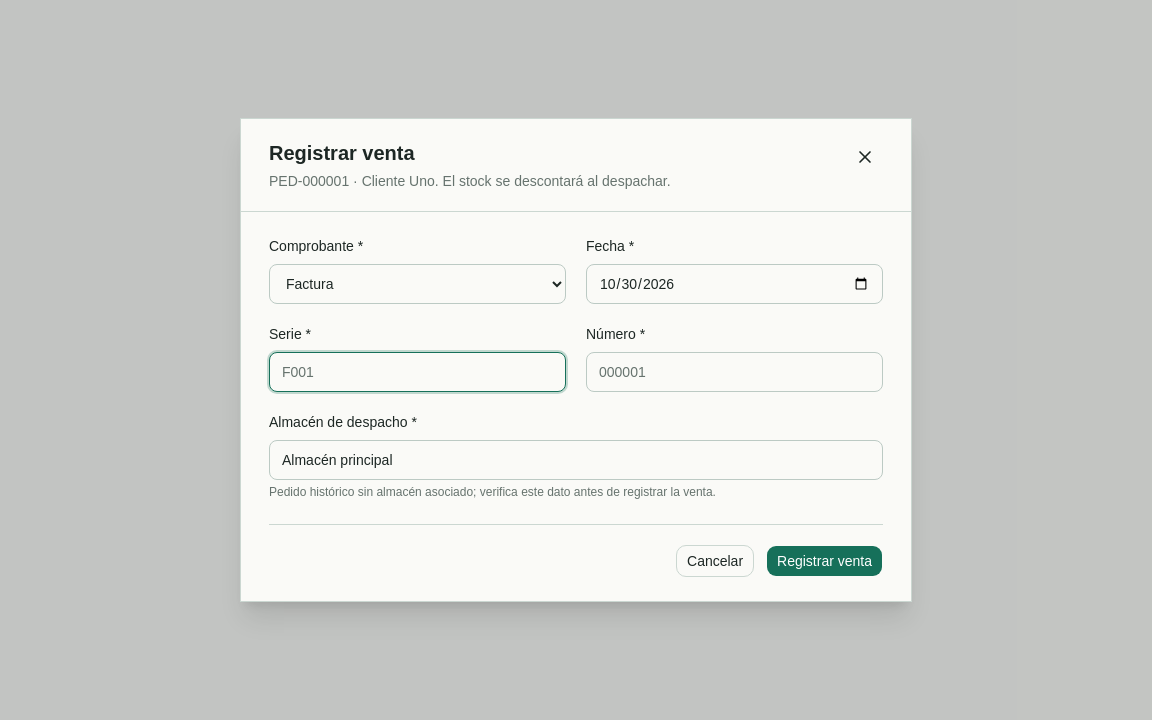
Test: DialogoRegistroVenta › marca la fecha cuando se intenta registrar sin una fecha válida
Clear the date field labelled "Fecha *" at [734, 284], box 586,264 -> 883,304
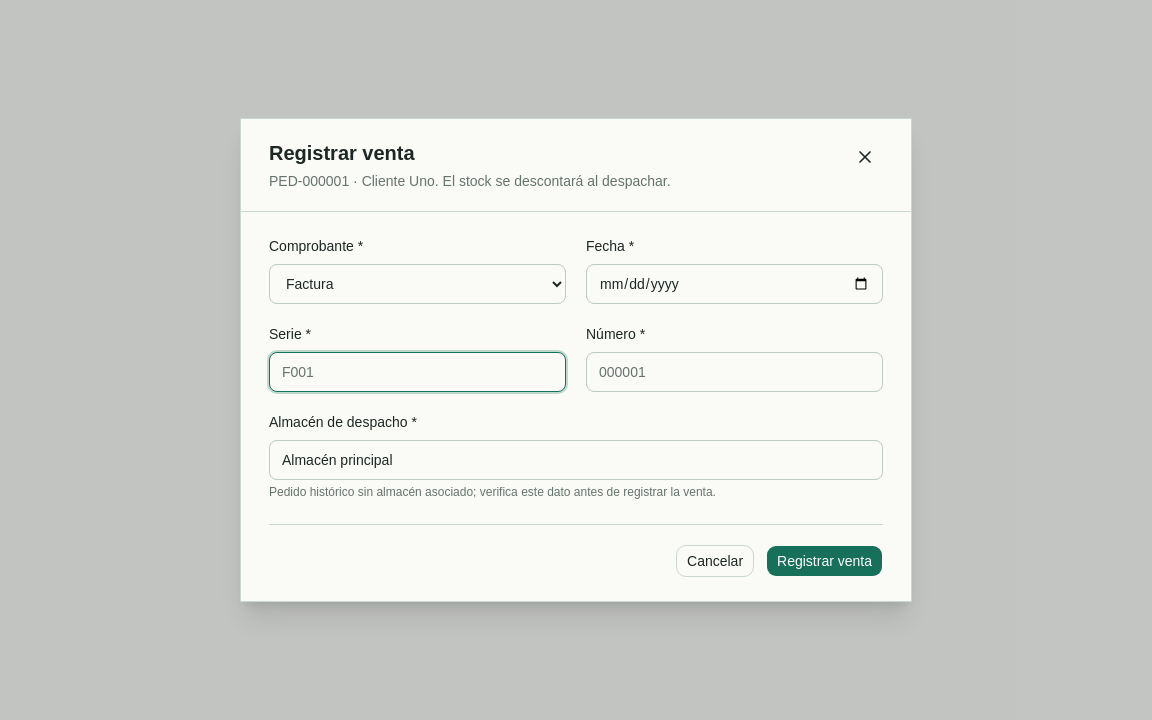
Type "f001" into the field labelled "Serie *".
click(418, 372); type("f001")  # box 269,352 -> 566,392
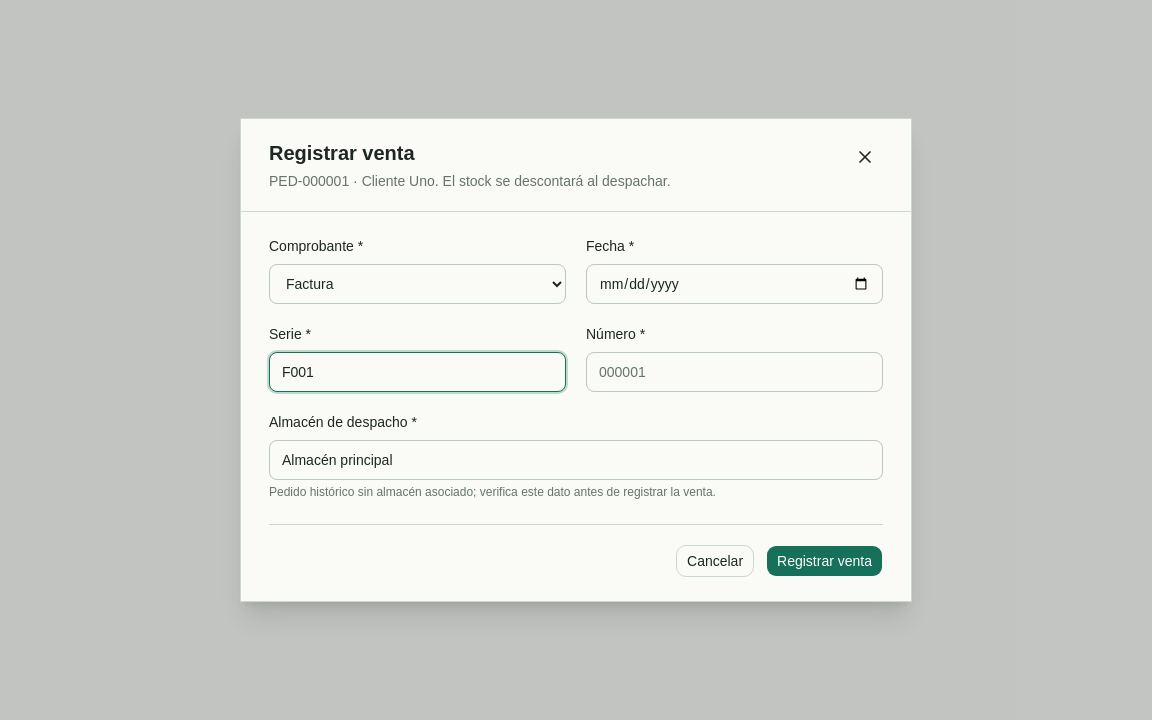
Type "1" into the field labelled "Número *".
click(734, 372); type("1")  # box 586,352 -> 883,392
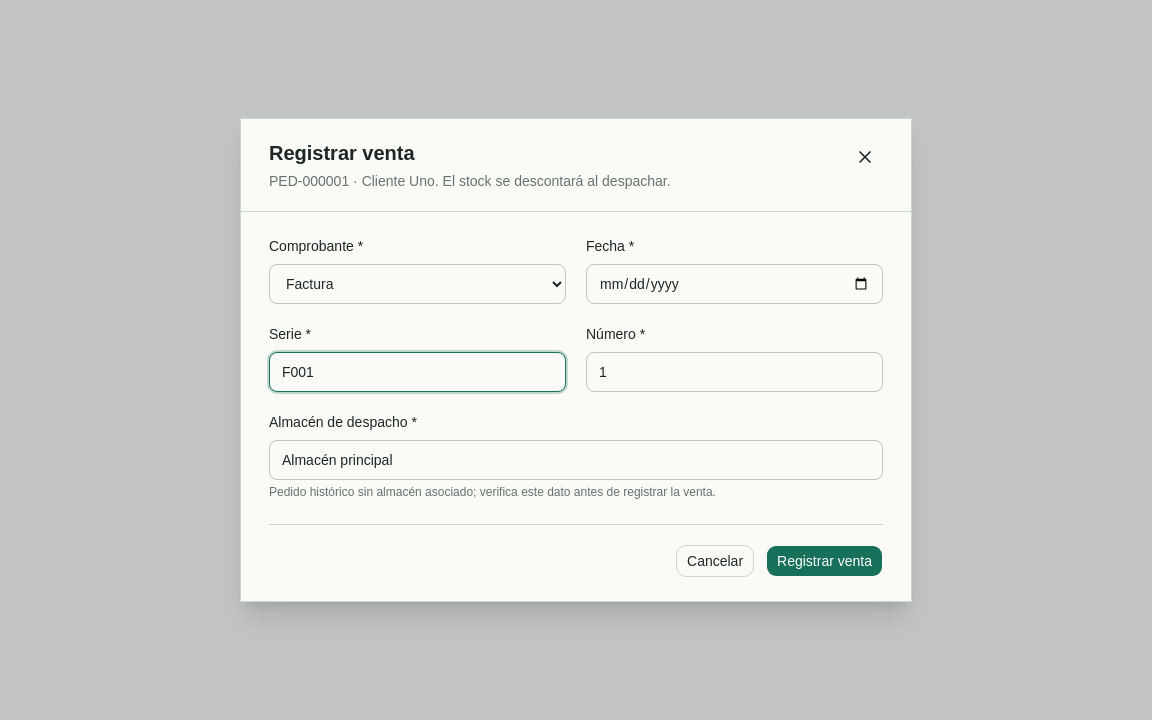
Click the button "Registrar venta".
click(825, 561)  # box 766,545 -> 883,577
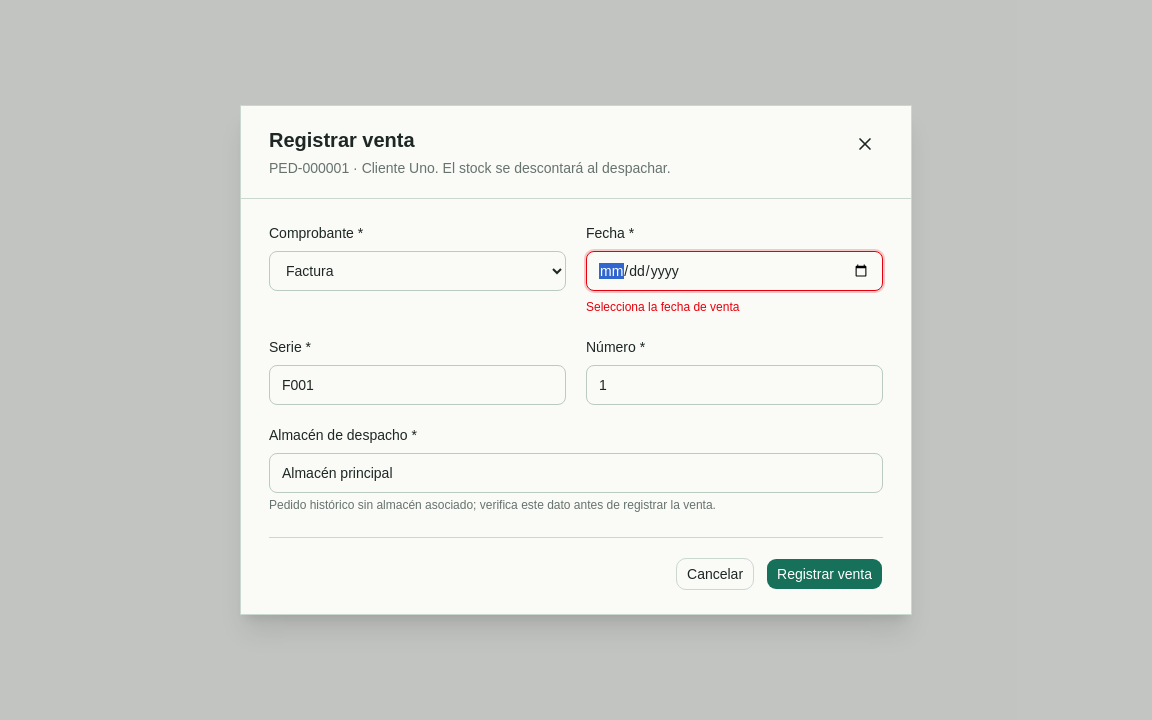
Check: the text "Selecciona la fecha de venta" is shown, box 586,300 -> 740,314
